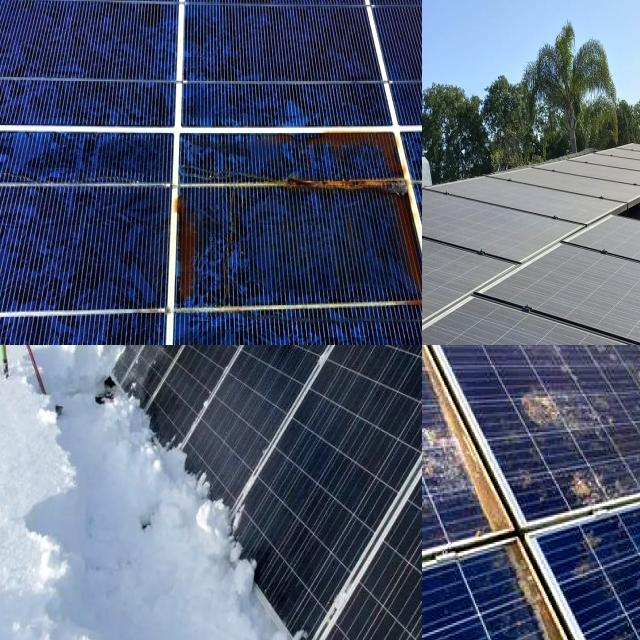bird: (560, 445, 620, 508), (422, 425, 473, 498), (512, 380, 574, 421), (479, 345, 542, 382), (615, 345, 640, 367)
dust: (464, 282, 629, 345), (422, 190, 532, 245), (422, 221, 484, 315), (537, 161, 640, 191), (590, 218, 625, 280)
panel: (51, 345, 185, 459), (223, 537, 308, 640), (156, 450, 253, 540)
shadow: (172, 122, 422, 338)
